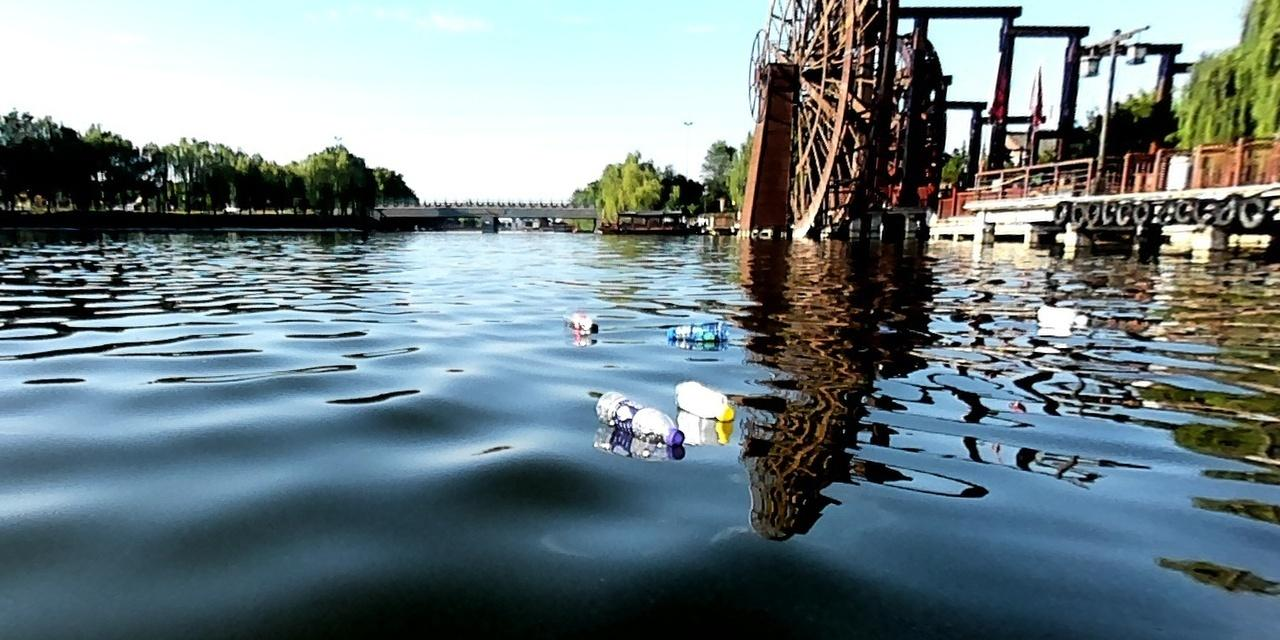bottle: (593, 387, 687, 446), (669, 377, 737, 424), (664, 319, 729, 345), (557, 305, 600, 337), (1031, 302, 1087, 325)
